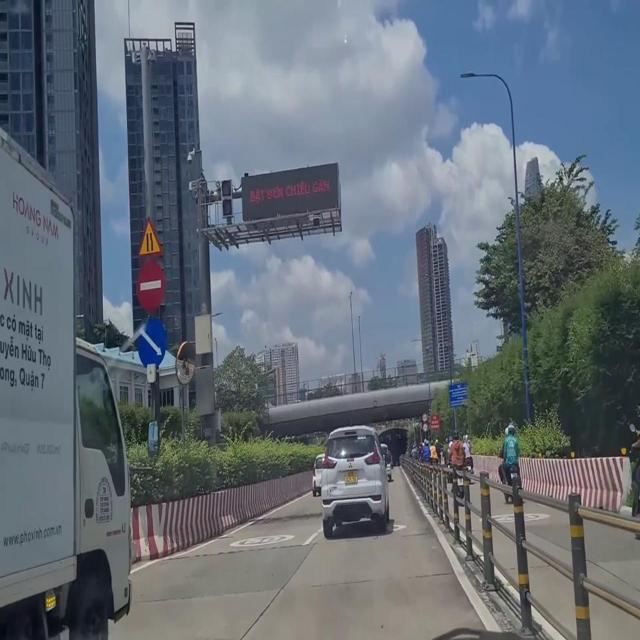Cấm đi ngược chiều: (134, 254, 166, 314)
Hướng phải đi vòng sang phải: (132, 317, 170, 373)
Khác: (448, 379, 467, 405)
Đường hẹp: (135, 214, 162, 260)
